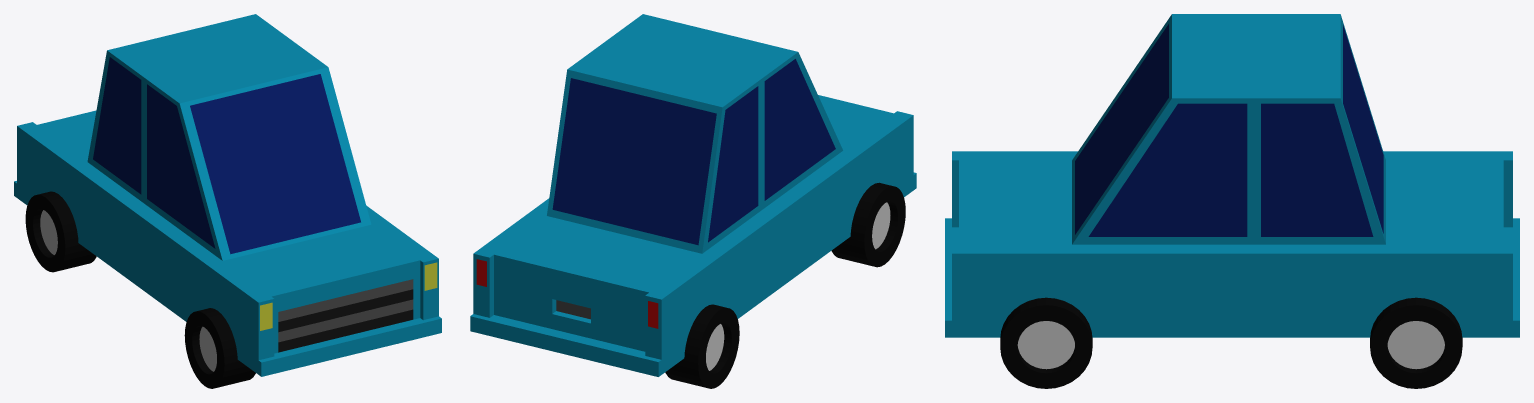
File: car_one_piece_blue.obj
3 views of the same model, side by side, from view 1: azimuth 30°, elevation 25°; view 2: azimuth 150°, elevation 25°; view 3: azimuth 270°, elevation 25° (orthographic). The views are drawn at different scales.
Parts seen in each view (by area): view 1: Tire_Cylinder; view 2: Tire_Cylinder; view 3: Tire_Cylinder.
Boxes of the visible parts, <box> form: Tire_Cylinder: <box>14,14,441,388</box>; Tire_Cylinder: <box>470,14,916,388</box>; Tire_Cylinder: <box>945,14,1519,388</box>.
Size of the model in its own units: 6 by 6.54 by 12.43.
